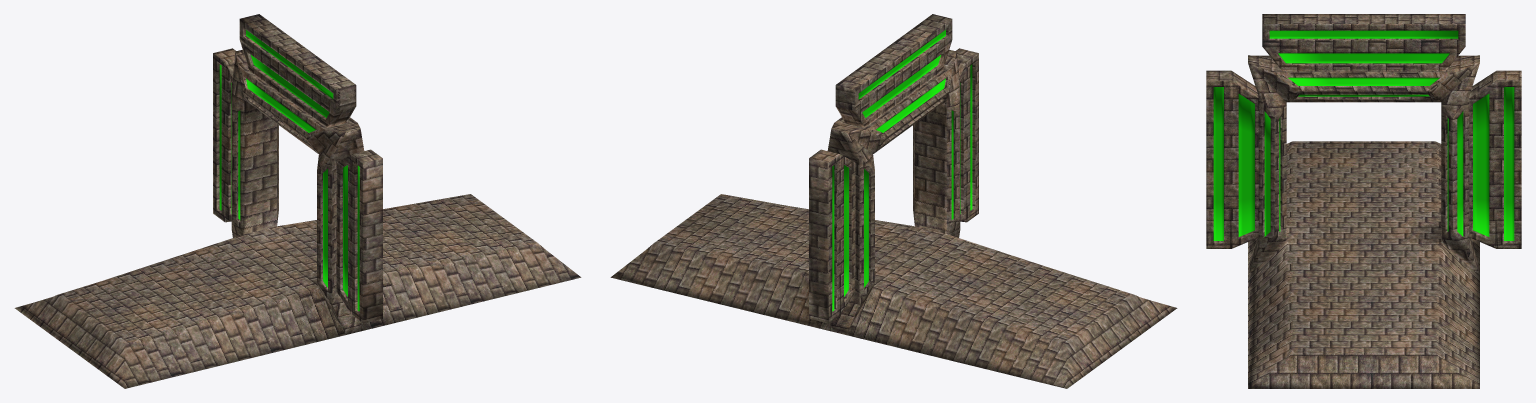
File: TESTGATE.fbx
3 renders of one model, left to right at view 1: azimuth 30°, elevation 25°; view 2: azimuth 150°, elevation 25°; view 3: azimuth 270°, elevation 25°, orthographic. The views are drawn at different scales.
Visible parts, largest first — view 1: Cube; view 2: Cube; view 3: Cube.
Part boxes in pixels (x1,y1,x2,y2): Cube: [14, 14, 581, 388]; Cube: [610, 14, 1177, 388]; Cube: [1206, 14, 1521, 388].
Bounding box in the file's own units: 1431 × 721 × 815.
